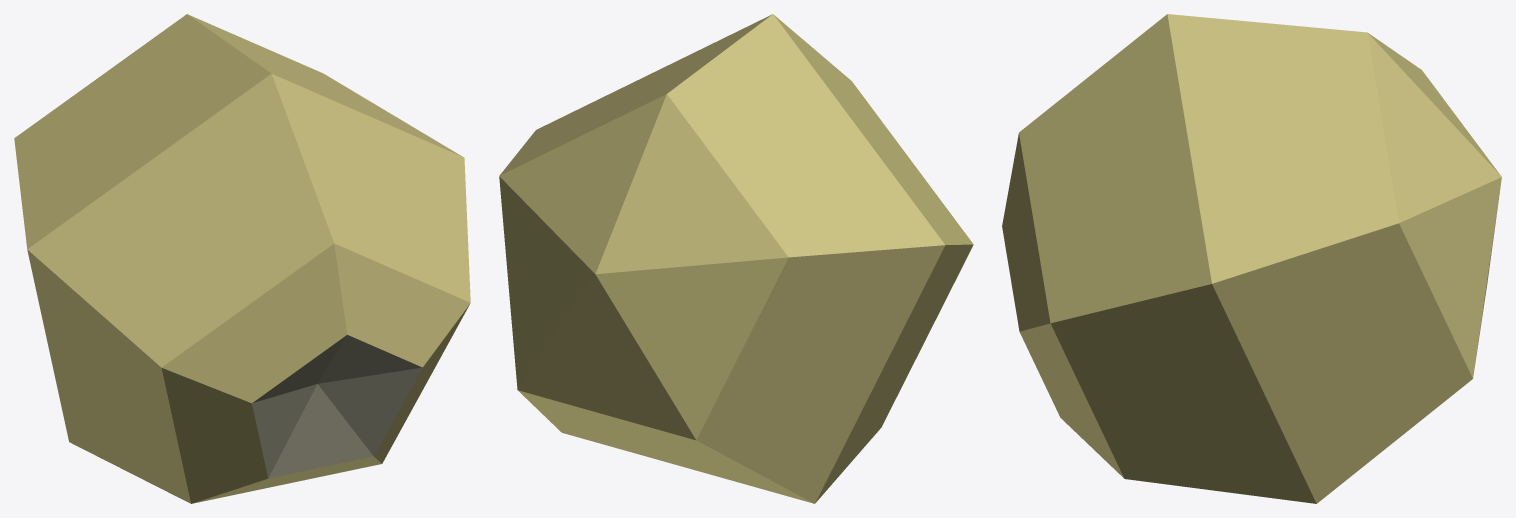
The model's file is 小米粟.fbx.
3 views of the same model, side by side, from view 1: azimuth 30°, elevation 25°; view 2: azimuth 150°, elevation 25°; view 3: azimuth 270°, elevation 25° (orthographic). The views are drawn at different scales.
Visible parts, largest first — view 1: 小米粟; view 2: 小米粟; view 3: 小米粟.
Boxes of the visible parts, x1,y1,x2,y2 form: 小米粟: (14, 14, 470, 503); 小米粟: (499, 14, 973, 503); 小米粟: (1002, 14, 1501, 503).
Size of the model in its own units: 0.5429 by 0.489 by 0.5291.
